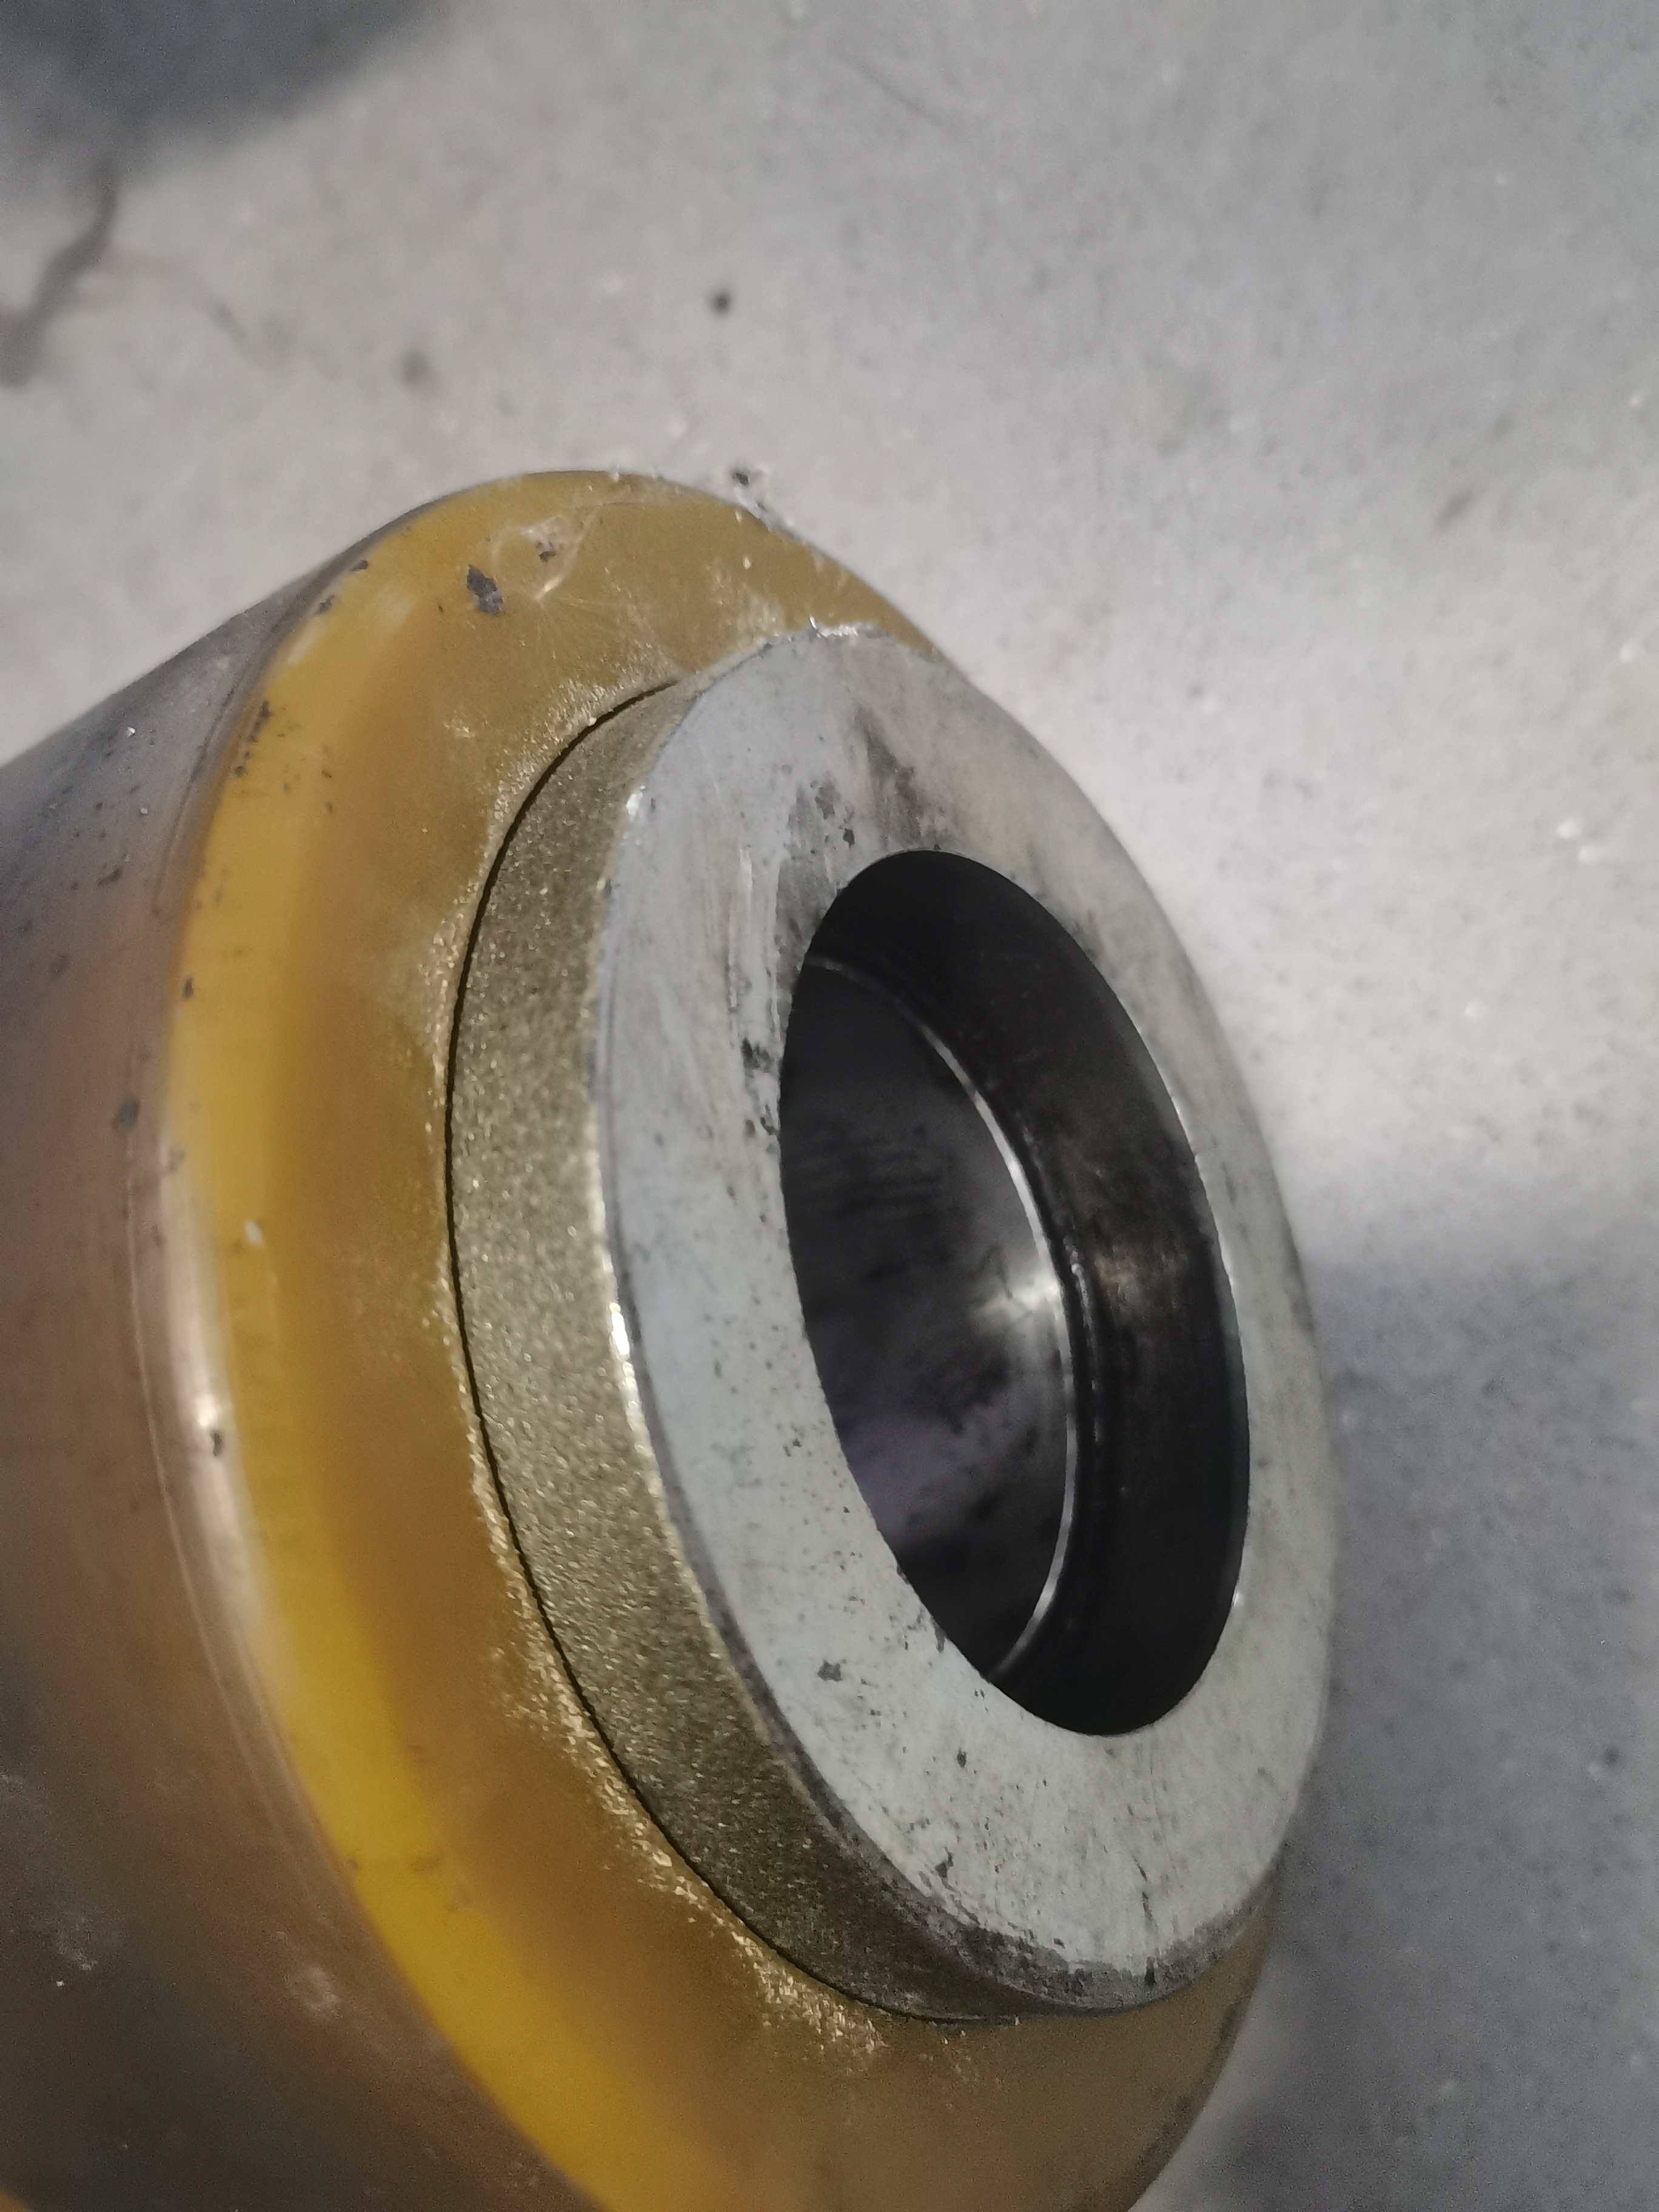bad_wheel: (291, 618, 826, 1958)
